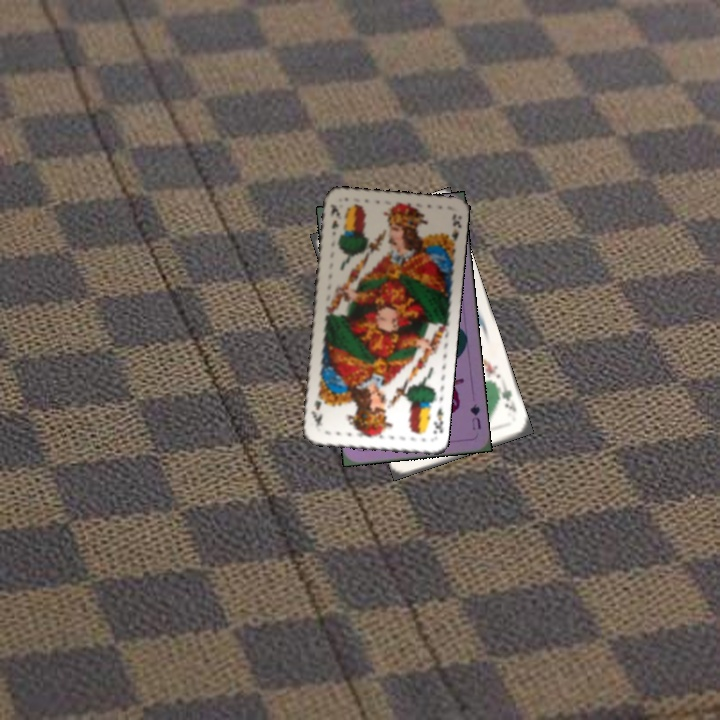EK: (326, 200, 342, 238), (429, 403, 446, 436)
GK: (494, 382, 519, 415)
GU: (466, 400, 484, 433)
